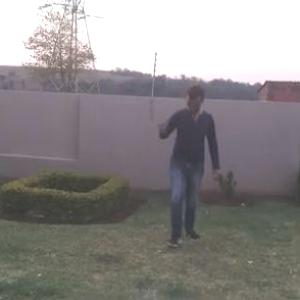takeoff-hand: (150, 108, 171, 138)
